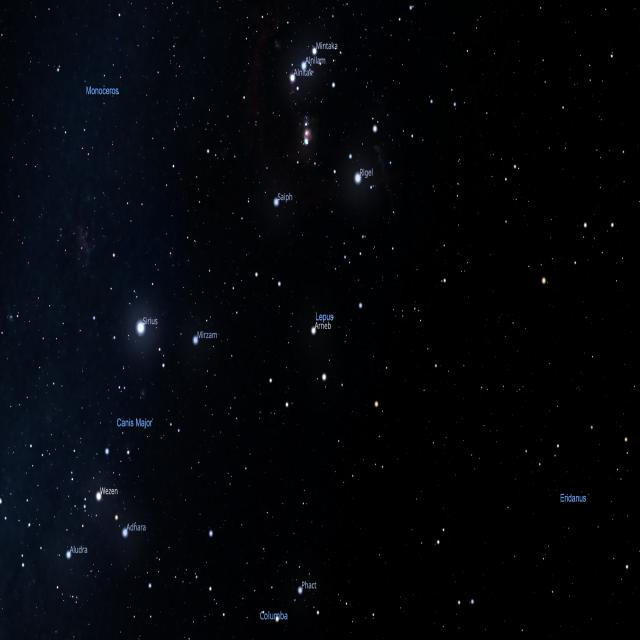Lepus: (231, 225, 380, 411)
